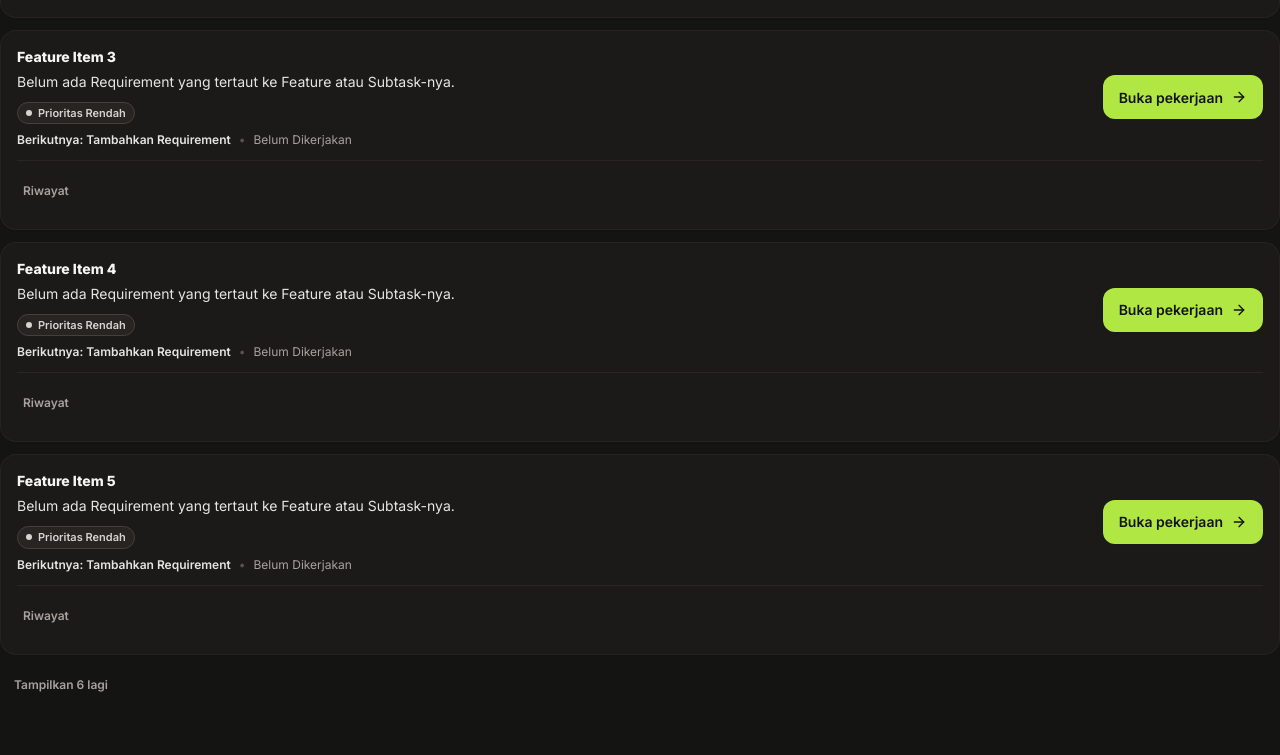
Scenario: MyTasksDashboard Organism › always shows queue filters and limits each section to 5 items until expanded
The image size is (1280, 755).
(page scrolled)
Expected: the heading "Feature Item 4" is shown, [17,260,116,277]
Click the button "Tampilkan 6 lagi".
click(61, 684)  # box [0,662,122,706]
(page scrolled)
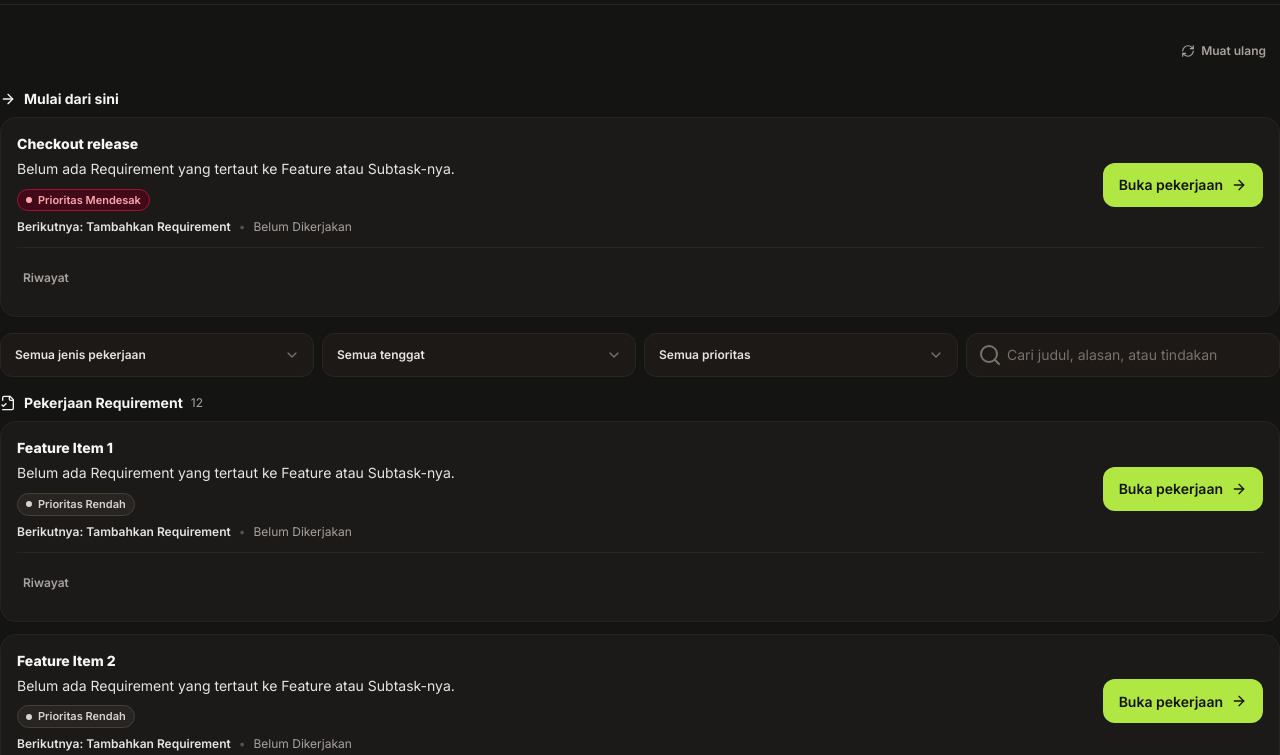
Select "Mendesak" in the dropdown named "Filter antrean kerja berdasarkan prioritas" at (801, 355), box [644,333,958,377]
(page scrolled)
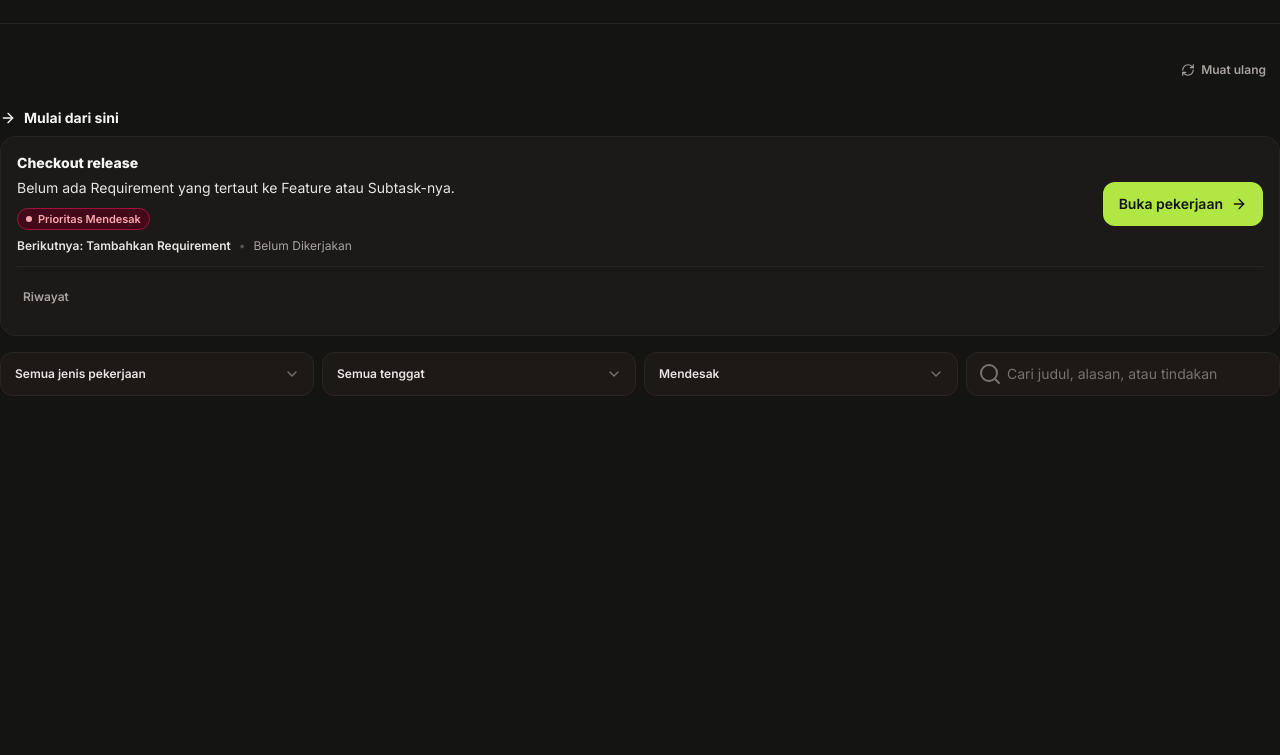
Expected: the heading "Checkout release" is shown, [17,154,138,171]
Expected: the heading "Feature Item 1" is gone
Select "Semua prioritas" in the dropdown named "Filter antrean kerja berdasarkan prioritas" at (801, 374), box [644,352,958,396]
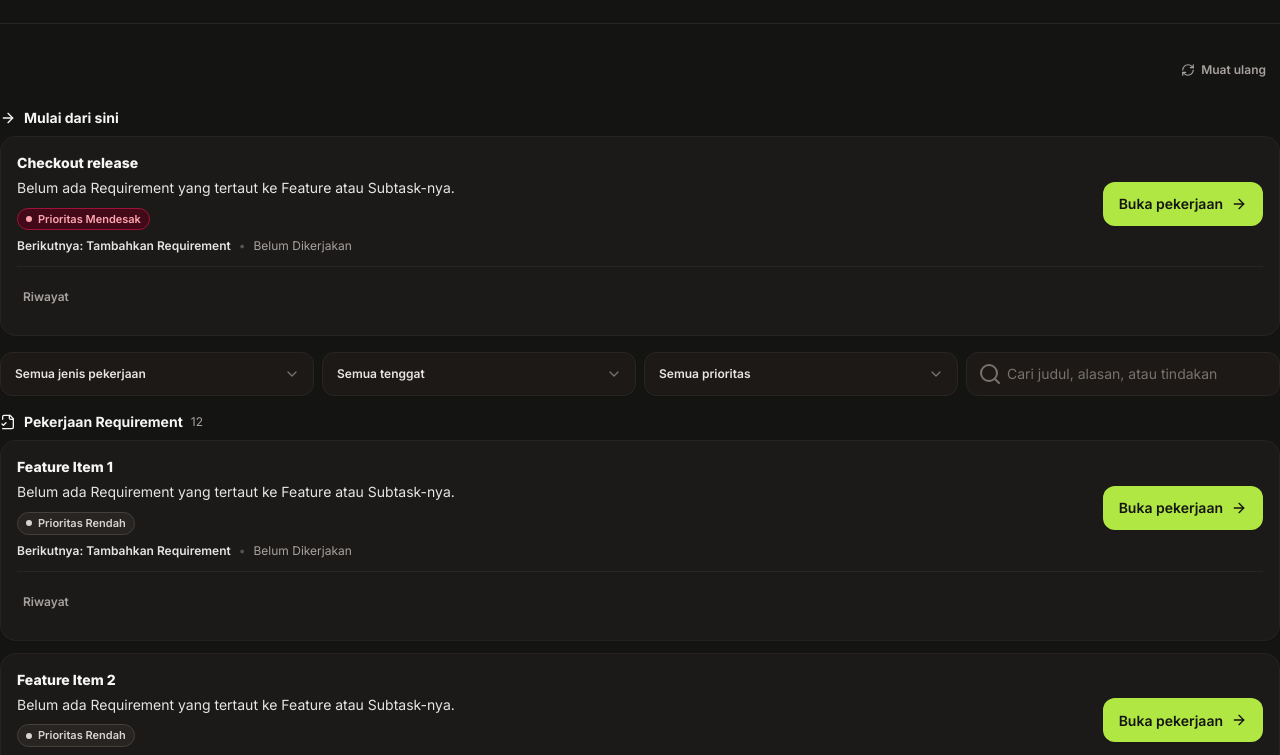
Type "missing phrase" into the field named "Cari antrean kerja".
click(1123, 374); type("missing phrase")  # box [966,352,1279,396]
Wait 250 ms
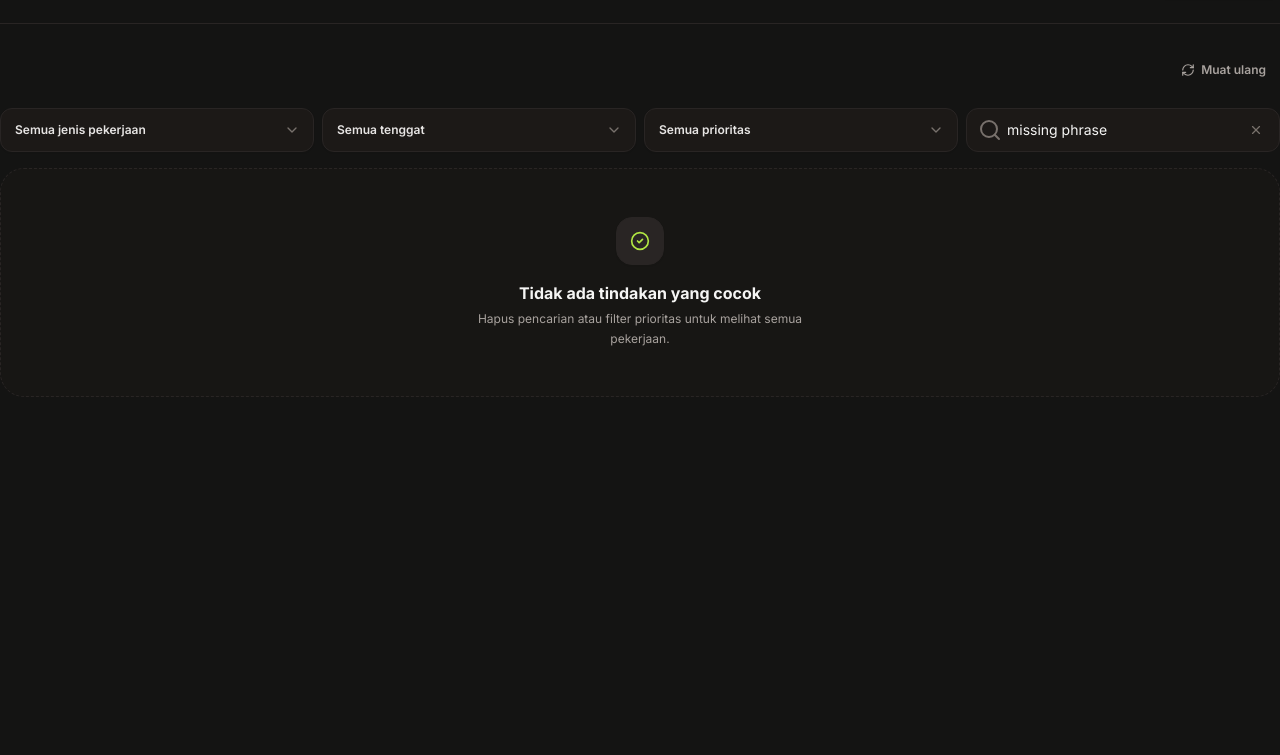
Expected: the heading "Tidak ada tindakan yang cocok" is shown, [519,281,761,305]
